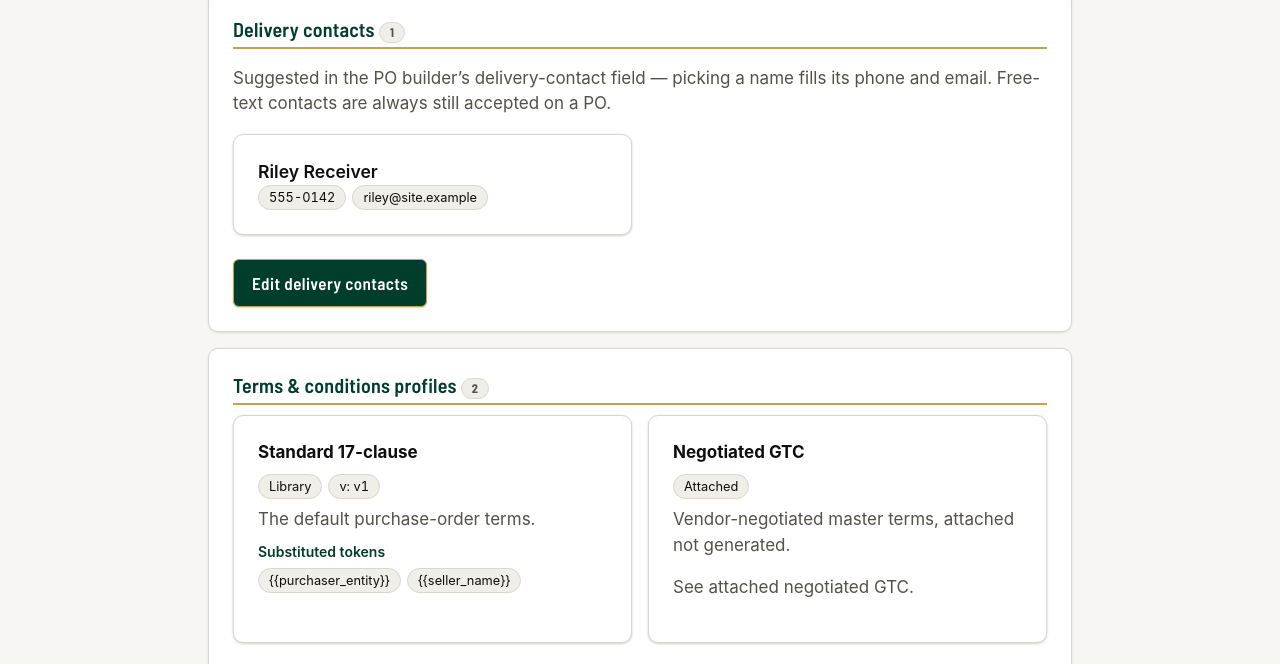
Test case: PoConfigPage — editors (send-free enqueue) › delivery-contacts edit POSTs op:edit with the full contacts payload (add + edit rows)
(page scrolled)
expect the text "Riley Receiver" is shown: met, box [258,161,378,182]
Click the button "Edit delivery contacts". click: coordinates (330, 283)
box: [233,259,427,307]
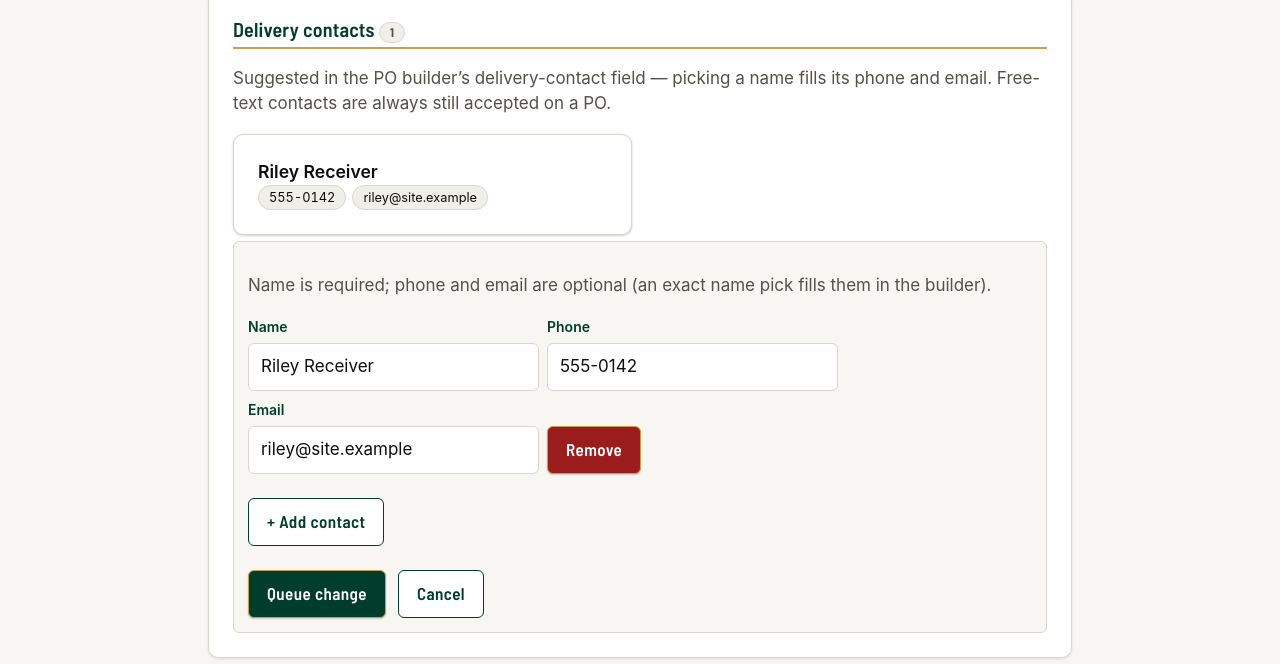
Type "555-0199" into the field with class "field__input" showing "Phone". click: coordinates (692, 367)
box: [547,343,838,391]
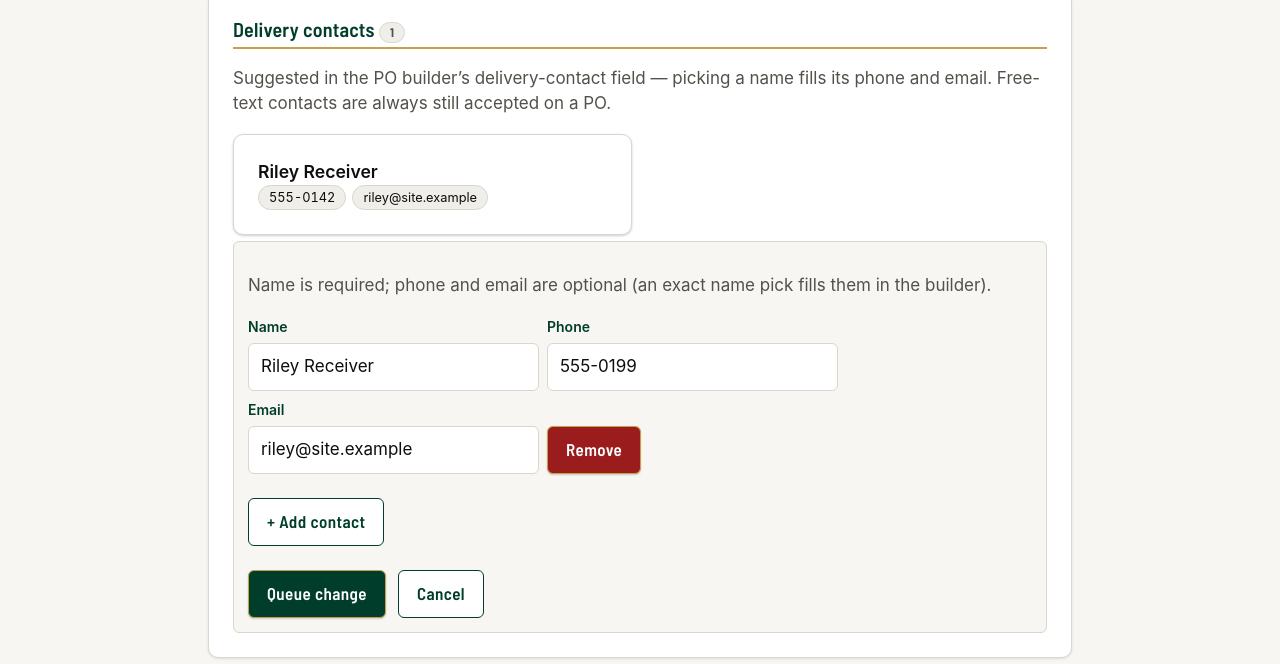
# Add a second contact (name only — phone/email optional).
Click the button "+ Add contact". click: coordinates (316, 522)
box: [248,498,384,546]
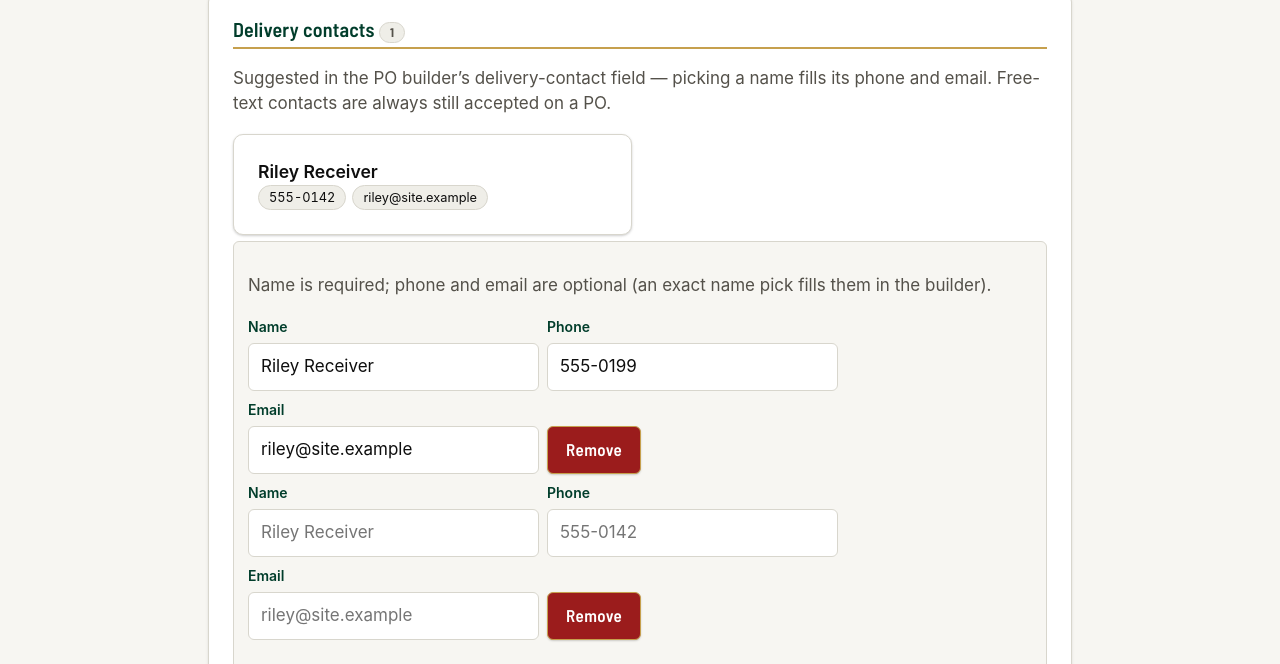
Type "Gate Guard" into the 4th field with class "field__input". click: coordinates (394, 533)
box: [248,509,539,557]
(page scrolled)
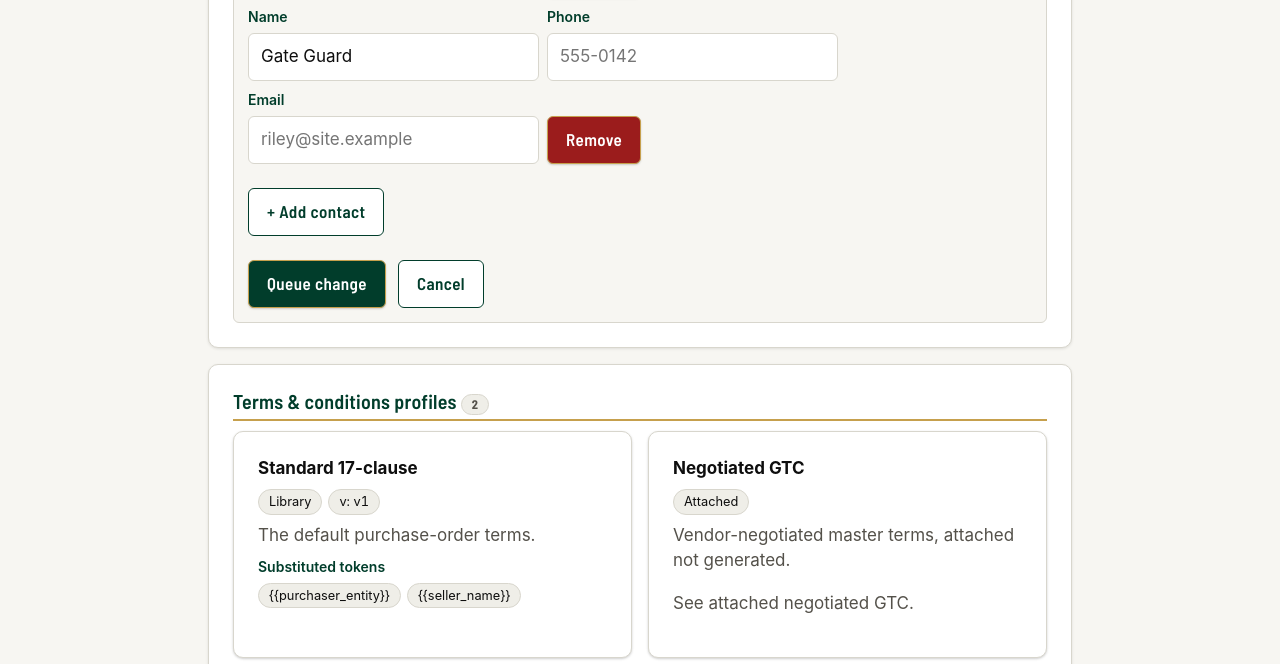
Click the button "Queue change". click: coordinates (317, 284)
box: [248,260,386,308]
(page scrolled)
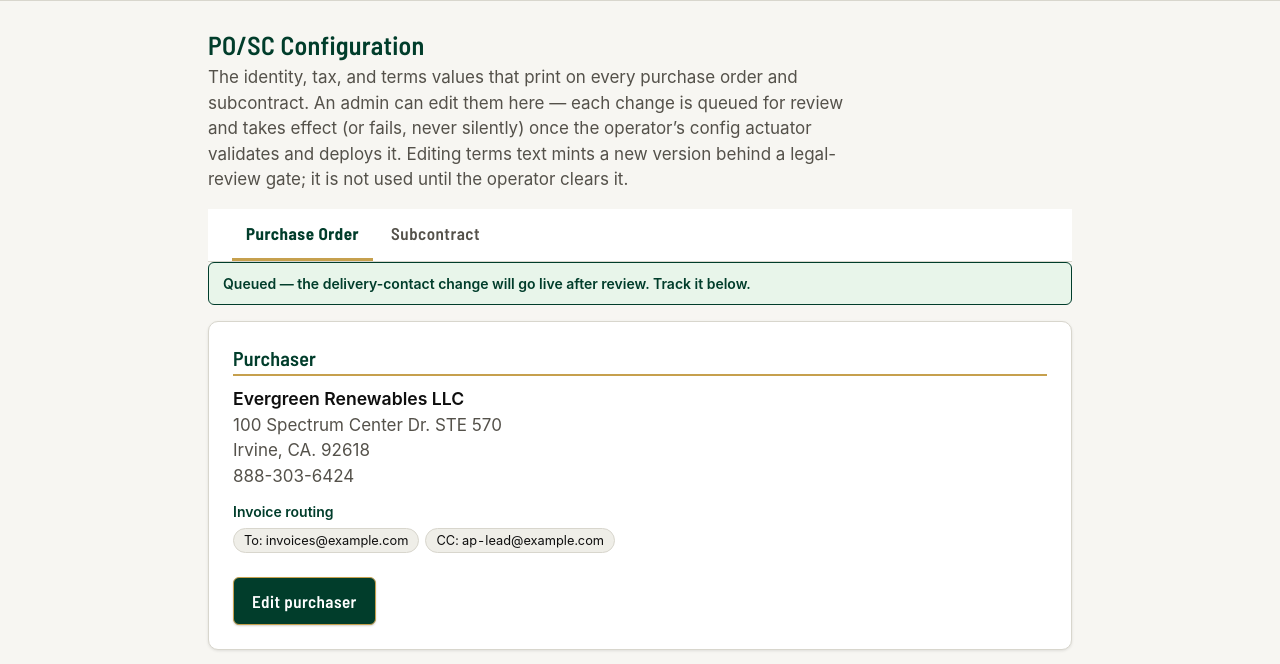
expect the text "Queued — the delivery-contact change" is shown: met, box [223,275,751,292]
